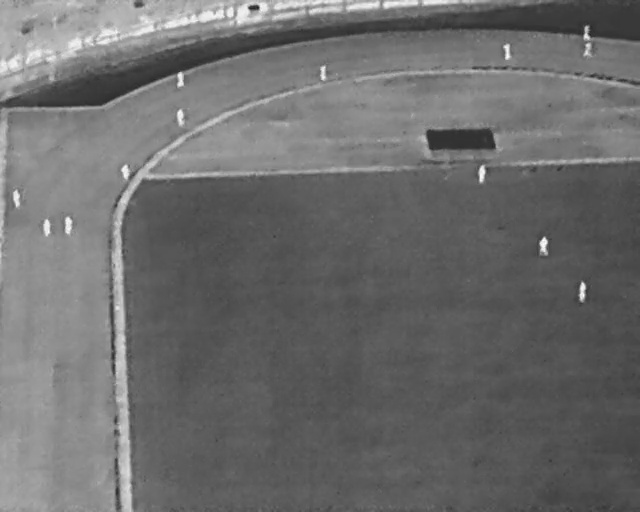Person: (63, 216, 74, 236), (577, 281, 587, 303), (12, 188, 22, 208), (539, 236, 549, 256), (502, 43, 512, 61), (121, 164, 131, 181), (177, 109, 186, 127), (43, 218, 51, 238), (583, 42, 593, 57), (478, 165, 486, 183), (583, 24, 591, 41), (177, 71, 184, 89), (320, 63, 327, 80)
